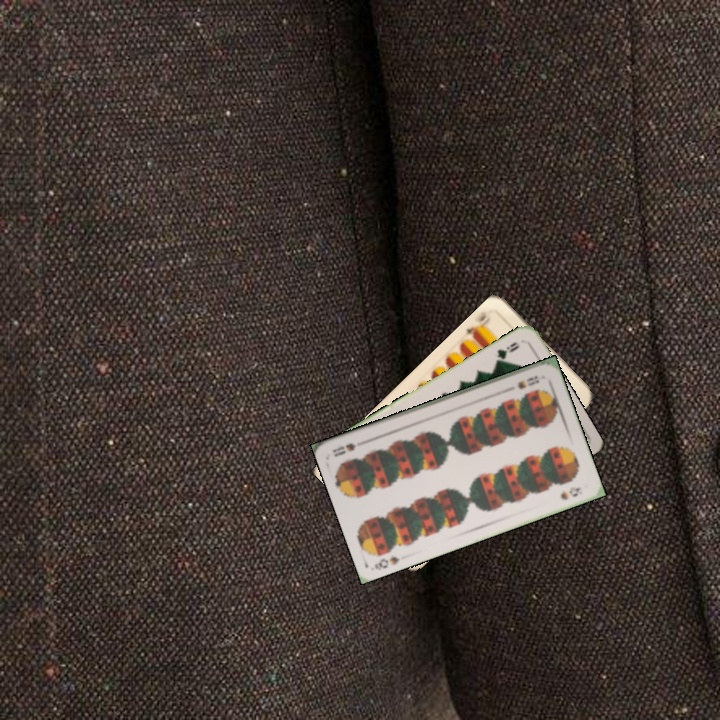E10: (462, 305, 494, 342)
G9: (491, 338, 522, 367)
S8: (370, 551, 402, 573), (513, 372, 542, 392)
